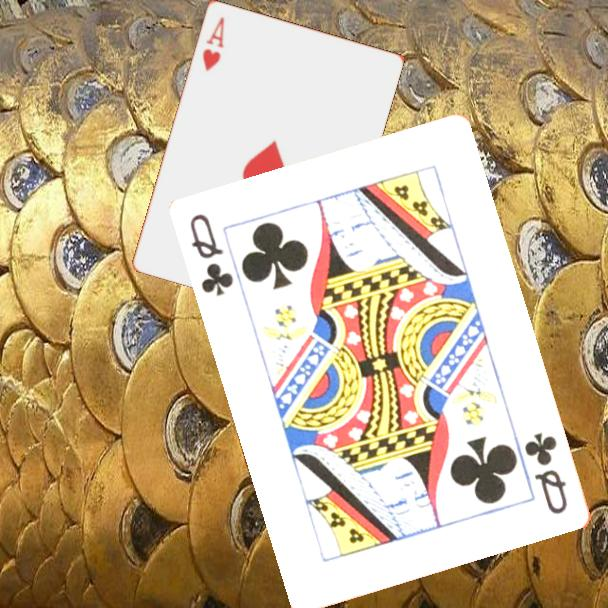c12: (187, 210, 237, 300), (521, 429, 571, 518)
h01: (199, 13, 227, 74)
